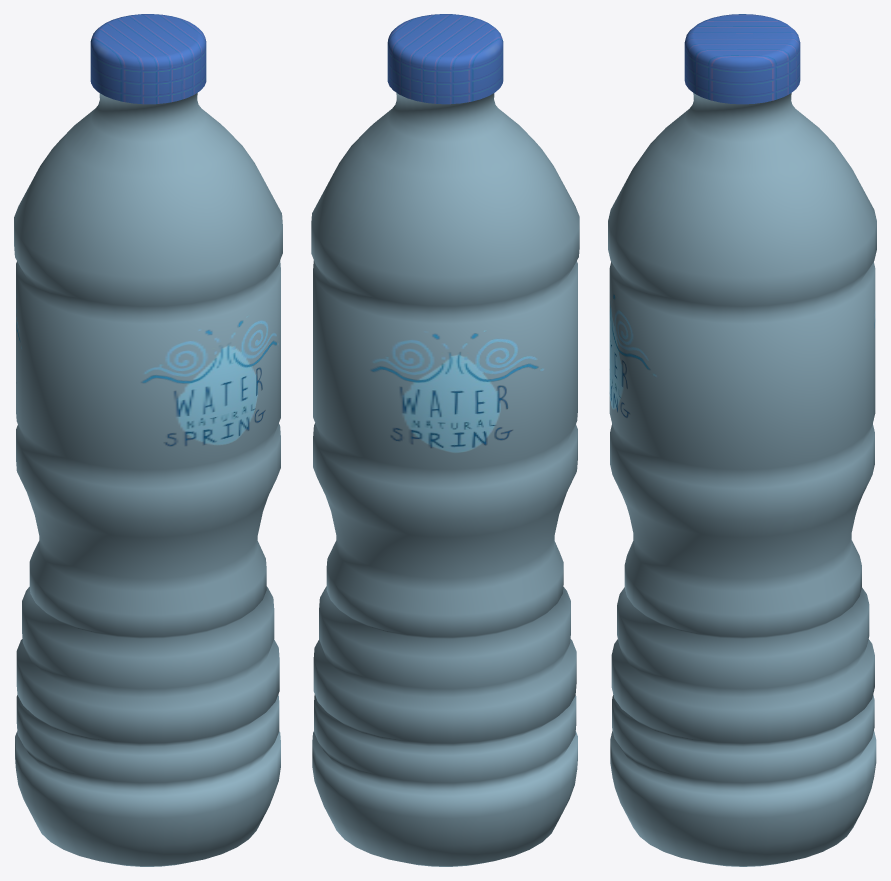
File: water-bottle.glb
3 renders of one model, left to right at view 1: azimuth 30°, elevation 25°; view 2: azimuth 150°, elevation 25°; view 3: azimuth 270°, elevation 25°, orthographic.
Parts seen in each view (by area): view 1: Bottle, Cap; view 2: Bottle, Cap; view 3: Bottle, Cap.
Part boxes in pixels (<box>): Bottle: <box>14,93,282,866</box>; Cap: <box>90,14,206,104</box>; Bottle: <box>311,93,579,866</box>; Cap: <box>387,14,503,104</box>; Bottle: <box>608,93,876,866</box>; Cap: <box>684,14,800,104</box>.
Size of the model in its own units: 1.22 by 3.97 by 1.22.
Materials: 2 (2 with a texture image).
